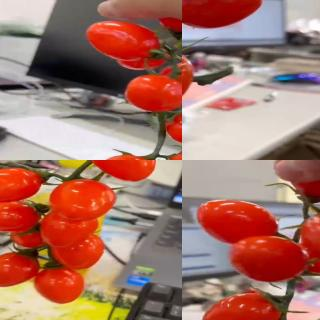tomato: (195, 200, 278, 247), (228, 238, 309, 285), (87, 21, 162, 62), (49, 177, 118, 219), (201, 290, 282, 320), (124, 72, 182, 112), (182, 0, 264, 28), (40, 210, 100, 247), (51, 232, 105, 269), (35, 267, 87, 305), (117, 41, 170, 72), (0, 166, 43, 204), (0, 252, 42, 288), (88, 160, 156, 182), (9, 220, 61, 248), (0, 201, 40, 233), (301, 210, 320, 263), (167, 110, 182, 149), (163, 68, 182, 96)
